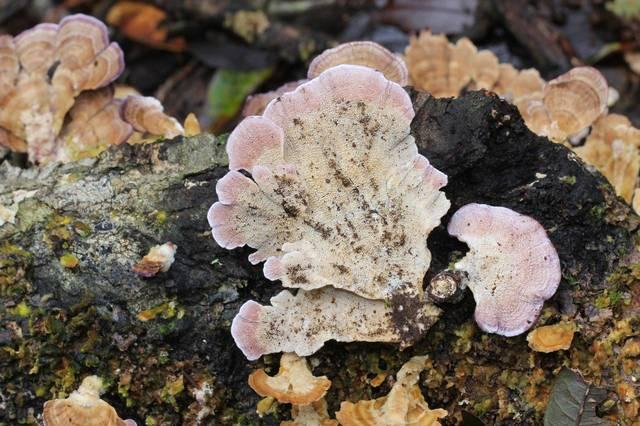Non-edible Mushroom: (205, 55, 452, 360), (393, 23, 640, 203), (0, 11, 215, 185), (440, 201, 562, 337)
